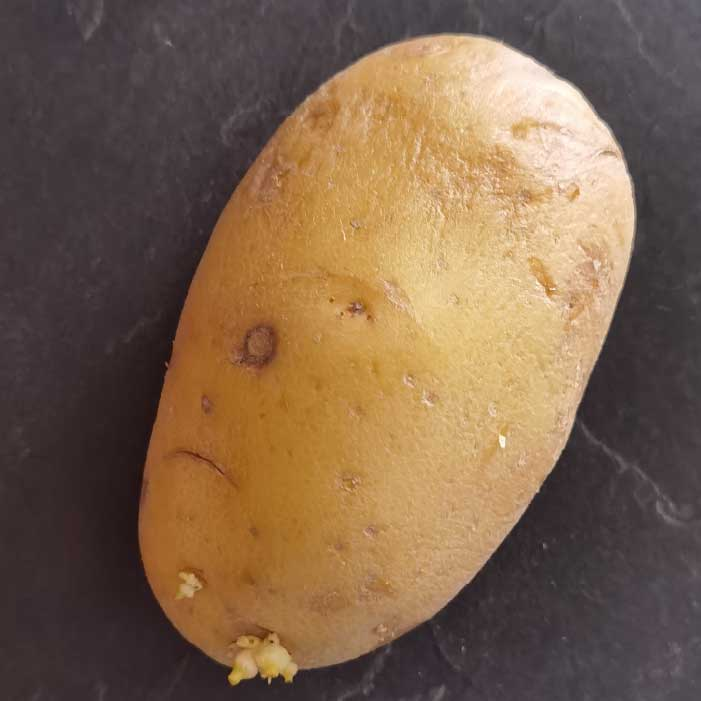Kartoffel: (138, 34, 635, 671)
